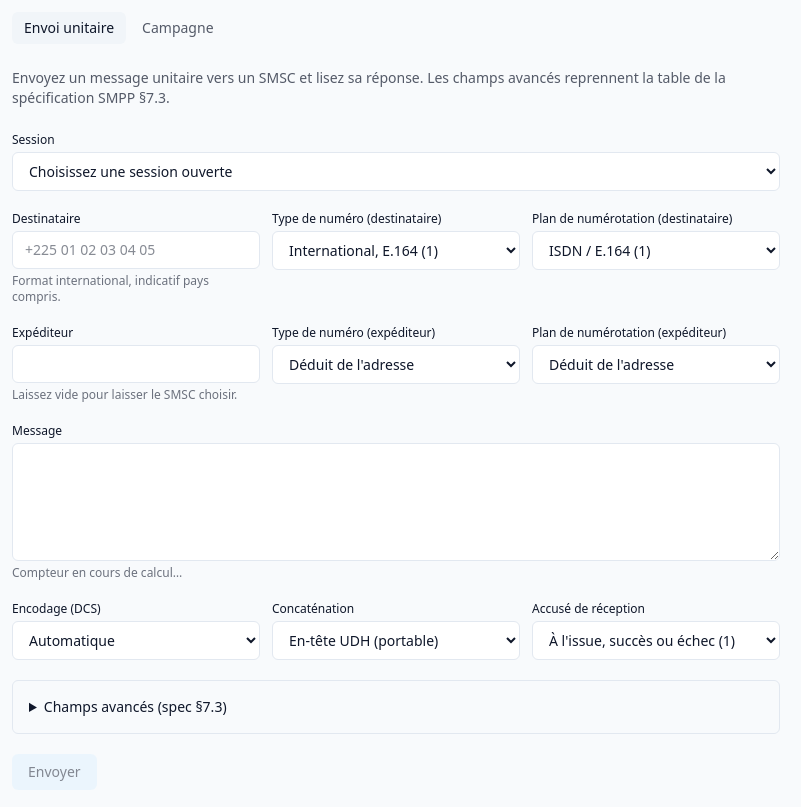
Test: Send › Simple › shows the counter the backend computed rather than one of its own
The image size is (801, 807).
Type "€€€€€€€" into the text box labelled "Message" at x=396, y=502, box [12,443,780,561]
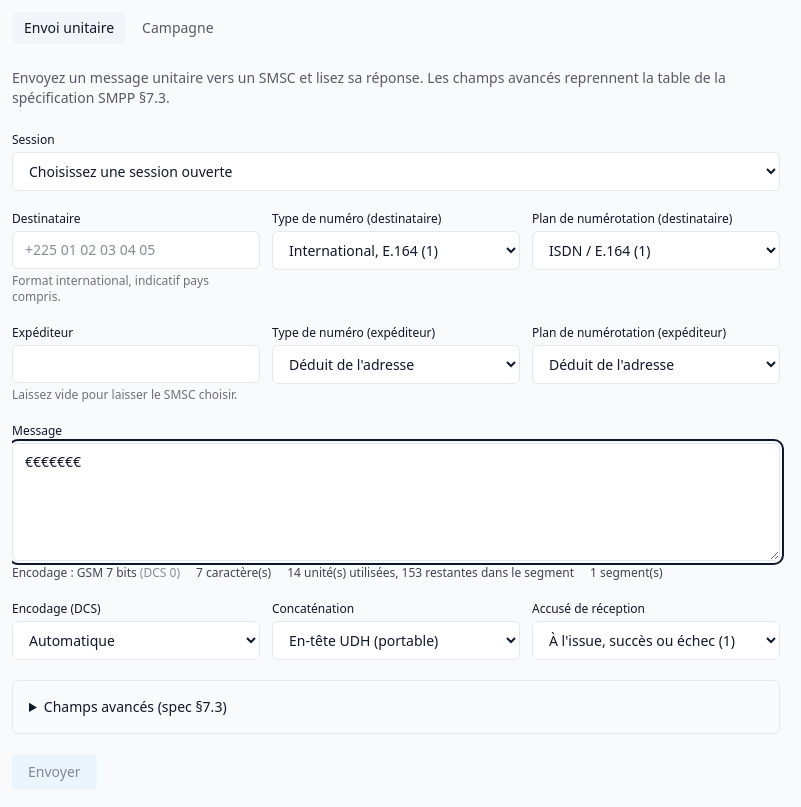
Now the text "14 unité(s) utilisées, 153 restantes dans le segment" is shown, box [287,565,574,581]
